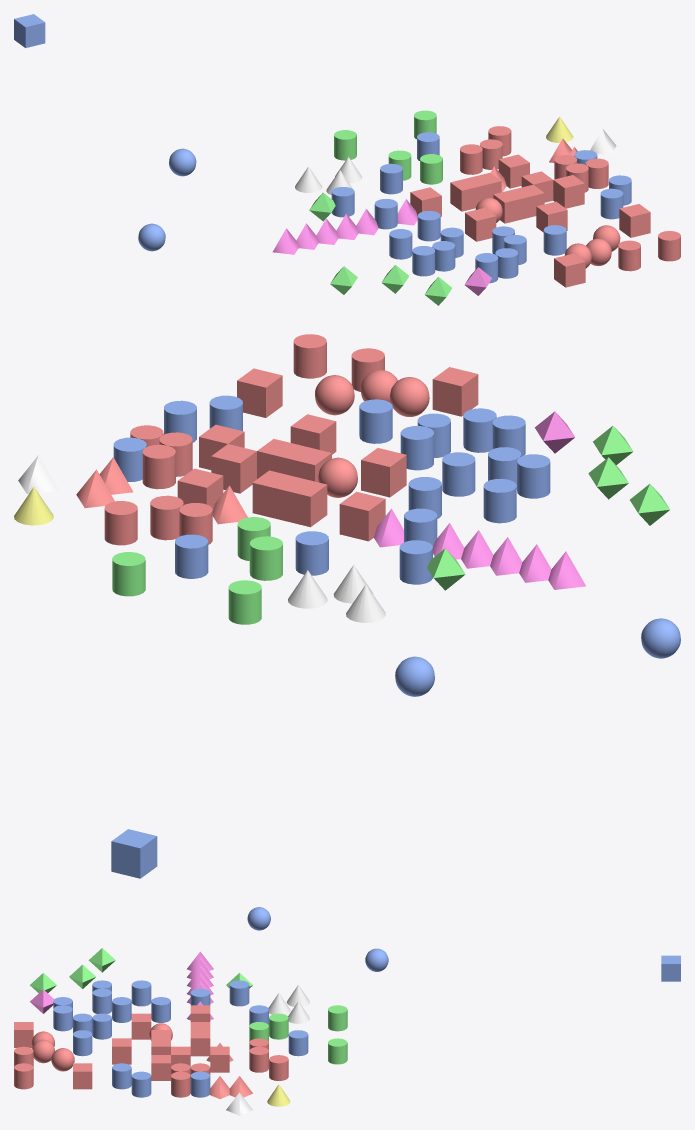
Rendered from map.glb.
The picture shows the model from 3 angles, top to bottom: view 1: azimuth 30°, elevation 25°; view 2: azimuth 150°, elevation 25°; view 3: azimuth 270°, elevation 25°; orthographic projection. The views are drawn at different scales.
Size of the model in its own units: 23.3 by 1.4 by 34.
